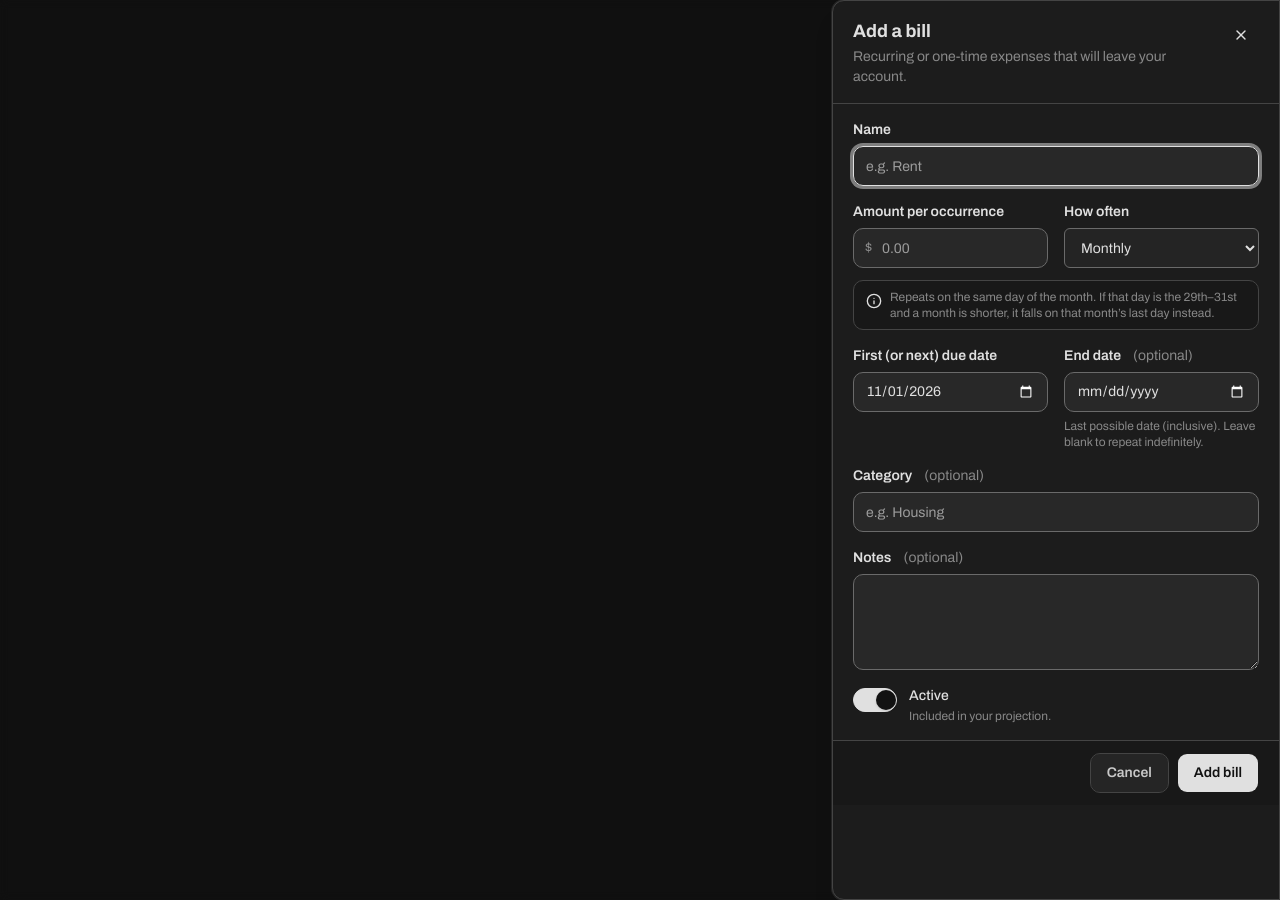
it: ScheduleFormDialog (bill) › rejects amount 12.999 client-side
Type "Rent" into the field with test id "bill-name".
click(1056, 166); type("Rent")  # box left=853, top=146, right=1259, bottom=186
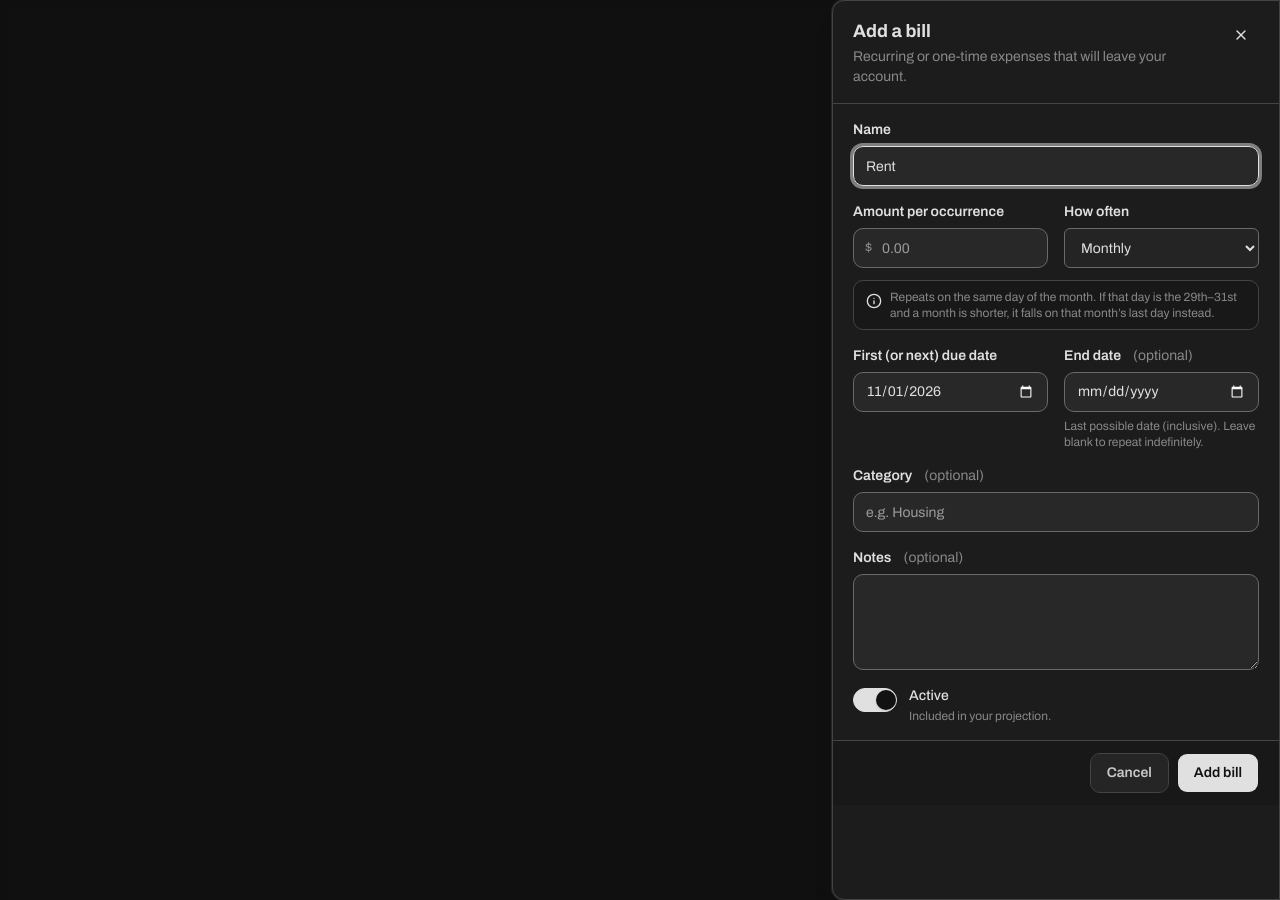
Type "12.999" into the field with test id "bill-amount".
click(950, 248); type("12.999")  # box left=853, top=228, right=1048, bottom=268
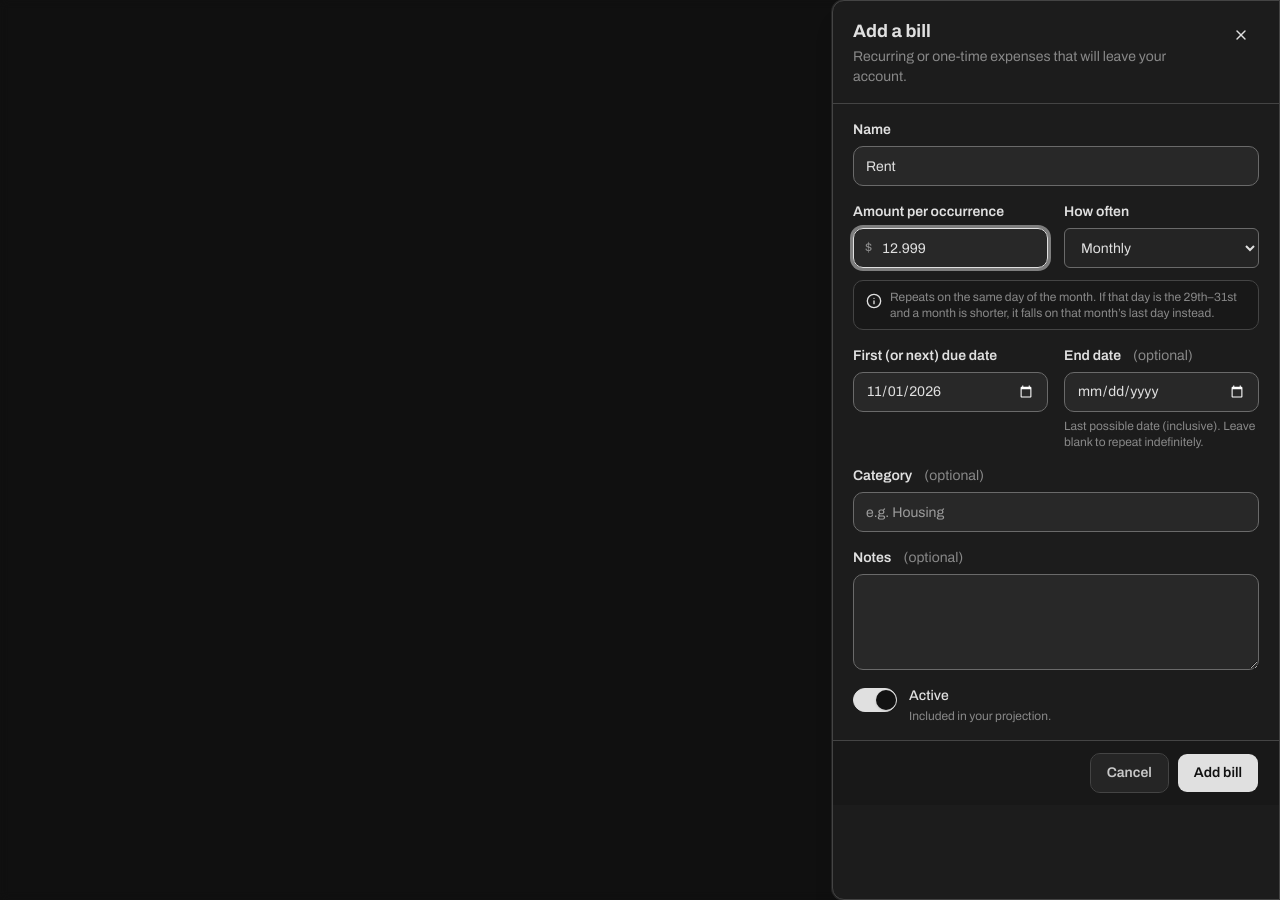
Click the button with test id "bill-form-submit".
click(1218, 773)  # box left=1177, top=753, right=1259, bottom=793
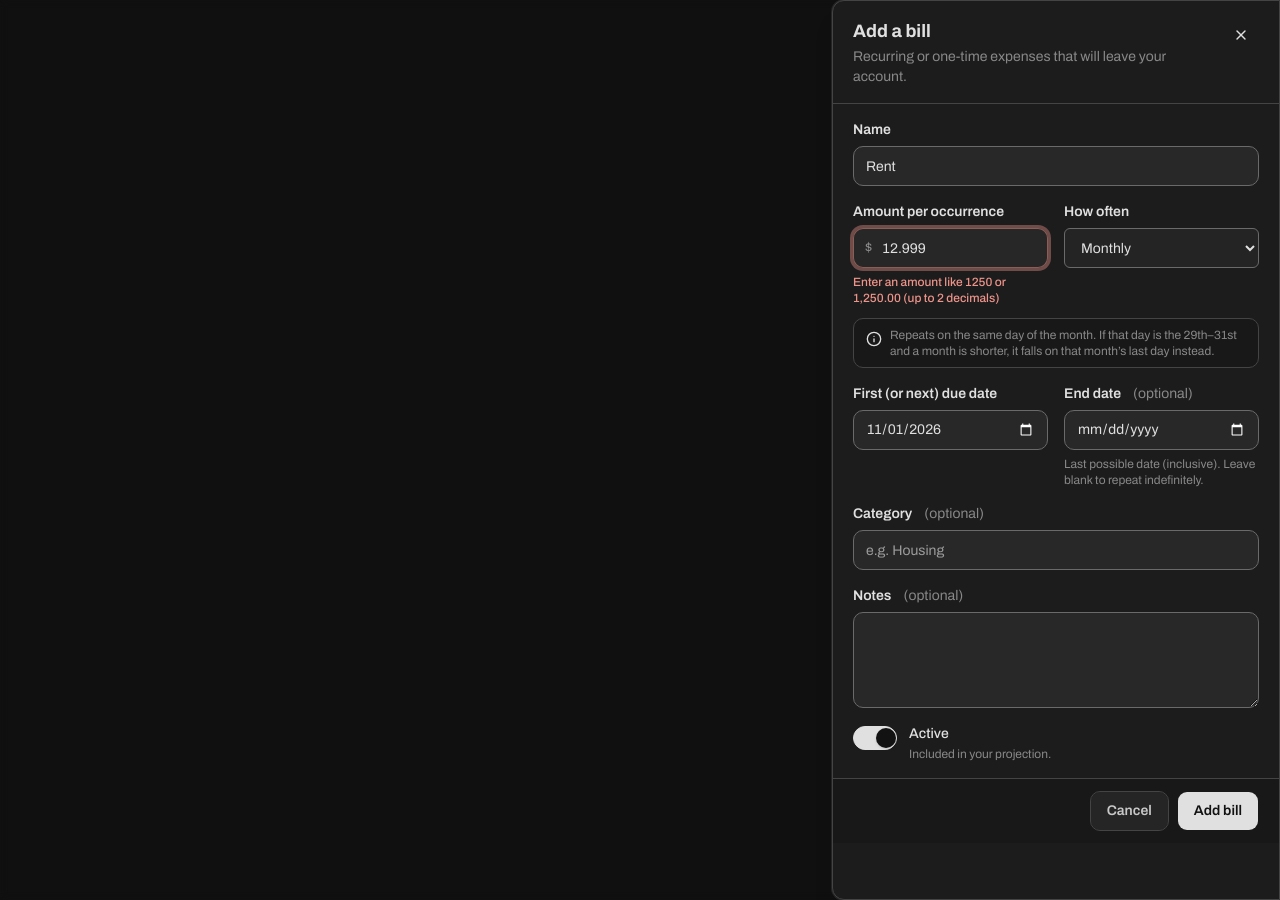
Now the message "Enter an amount like 1250 or 1,250.00 (up to 2 decimals)" is shown, box left=853, top=275, right=1006, bottom=305
